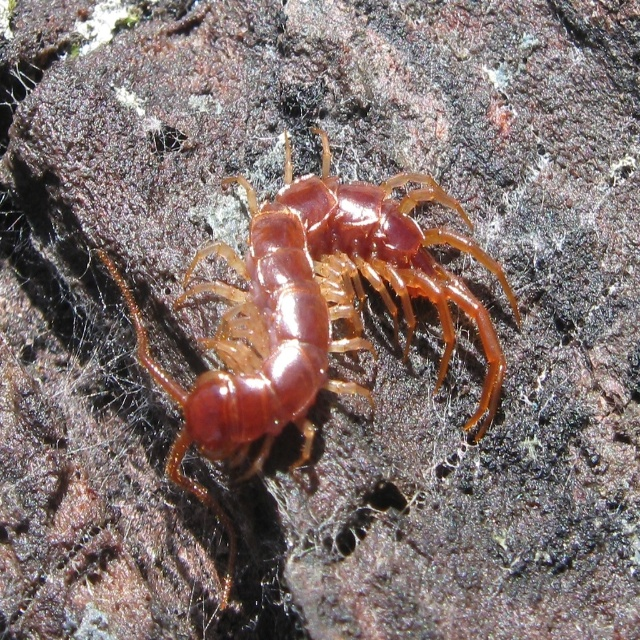Centipede: (94, 131, 522, 614)
